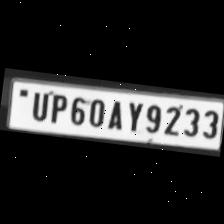0: (83, 94, 107, 128)
2: (159, 102, 182, 136)
3: (178, 103, 201, 138), (197, 106, 220, 140)
6: (64, 91, 88, 126)
9: (138, 100, 162, 134)
A: (104, 96, 126, 131)
P: (44, 89, 68, 125)
U: (25, 88, 50, 122)
Y: (120, 98, 143, 134)
